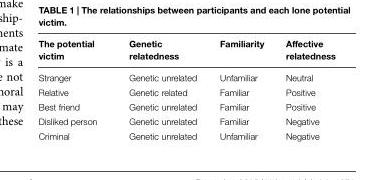table: (37, 37, 334, 140)
table column: (112, 37, 207, 140), (37, 37, 112, 140), (207, 37, 274, 140), (274, 37, 334, 140)
table column header: (37, 37, 334, 66)
table row: (37, 37, 334, 66), (37, 66, 334, 84), (37, 98, 334, 113), (37, 113, 334, 128), (37, 84, 334, 98), (37, 128, 334, 140)
